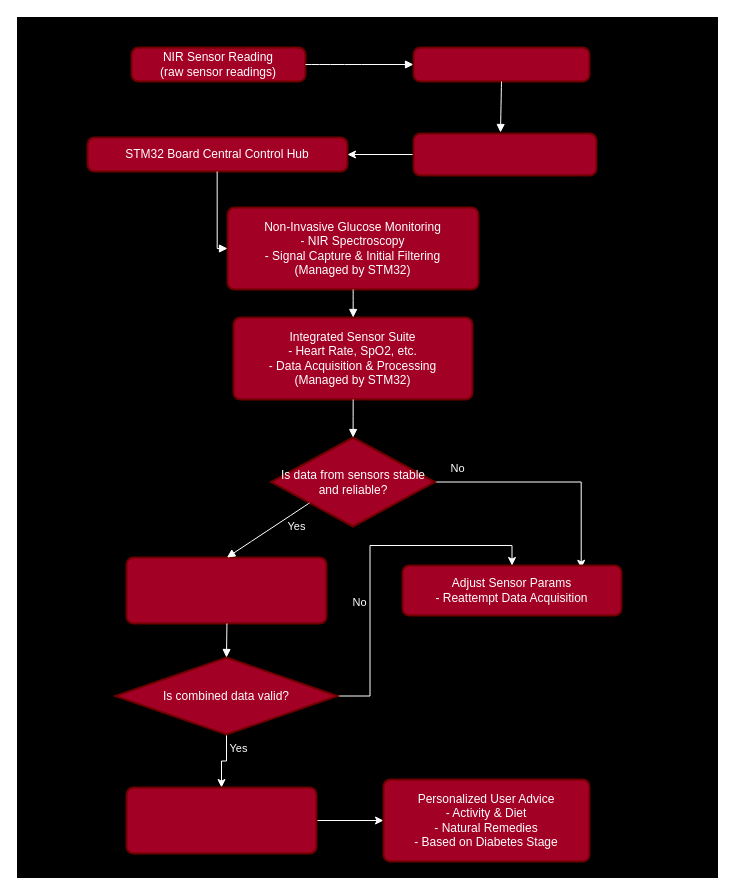
Image size: 735x895. Some labels were removed from this diagram. The shapes that lost their labels are listed below. From the top down, each one's centre as x and y in pixels, then its label:
At point (501, 64): "Signal Amplification".
At point (504, 154): "Filtering (To remove unwanted noise)".
At point (226, 590): "Data Fusion & Processing - Feature Extraction - Enhancements by AI".
At point (221, 820): "Machine Learning Model - Enhances Accuracy - Runs on STM32".
